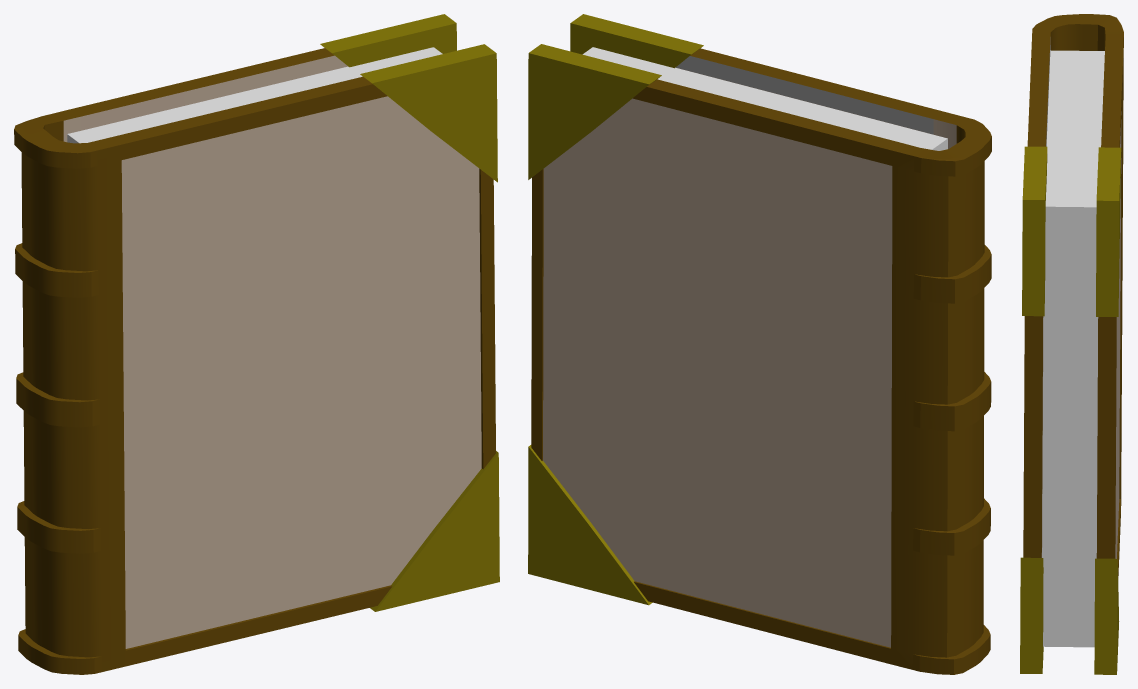
File: Book_Closed.fbx
The picture shows the model from 3 angles, left to right: view 1: azimuth 30°, elevation 25°; view 2: azimuth 150°, elevation 25°; view 3: azimuth 270°, elevation 25°; orthographic projection. The views are drawn at different scales.
Visible parts, largest first — view 1: Pages1; view 2: Pages1; view 3: Pages1.
Boxes of the visible parts, x1=… form: Pages1: x1=14, y1=14, x2=499, y2=674; Pages1: x1=528, y1=14, x2=991, y2=674; Pages1: x1=1020, y1=14, x2=1123, y2=674.
Size of the model in its own units: 3.56 by 4.1 by 0.8136.
